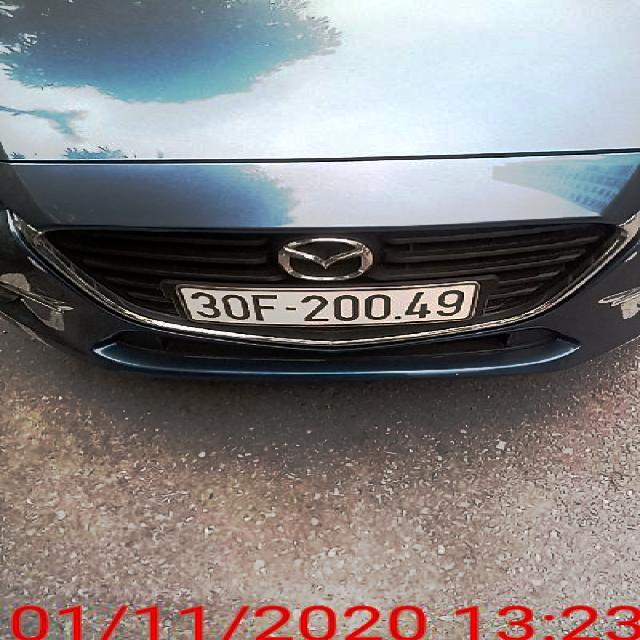license_plate: (182, 290, 481, 328)
